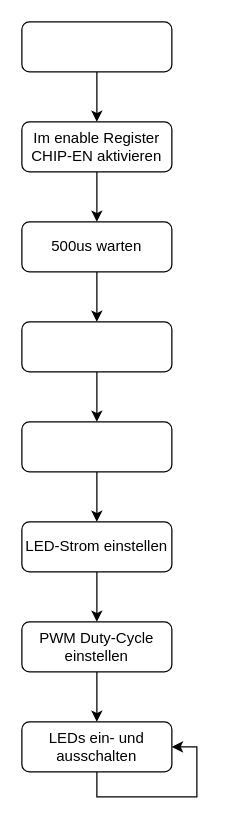
Some shapes in this 229 by 829 pixel diagram are drawn without their labels. Each missing label, with the centre of its shape:
"Charge-pump aktivieren" goes at (x=96, y=346).
"Clock-Quelle auf intern stellen" goes at (x=96, y=446).
"IC mit HW-Pin einschalten" goes at (x=96, y=46).
